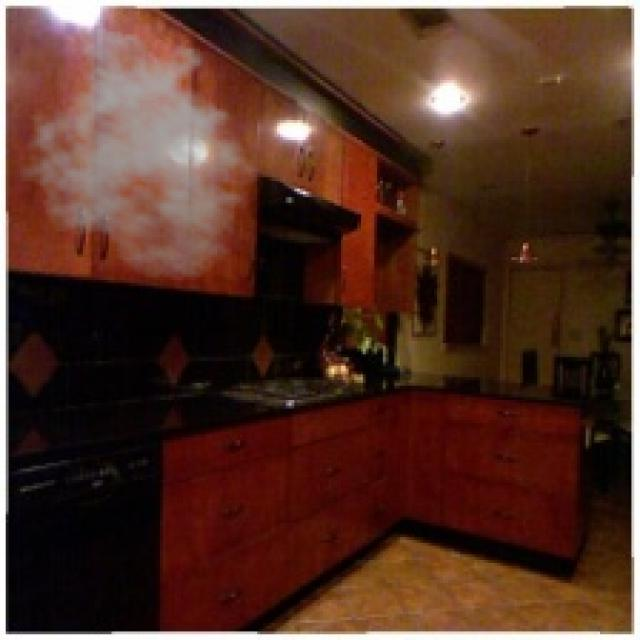smoke: (17, 26, 272, 283)
